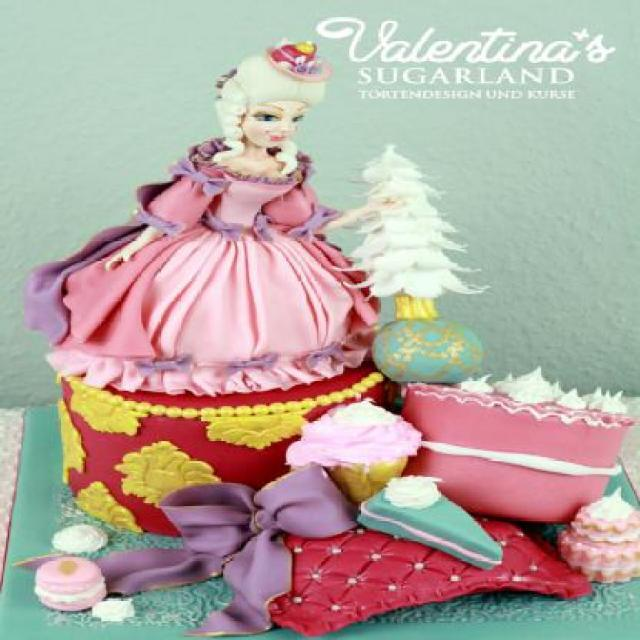Ice cream: (293, 410, 421, 508)
